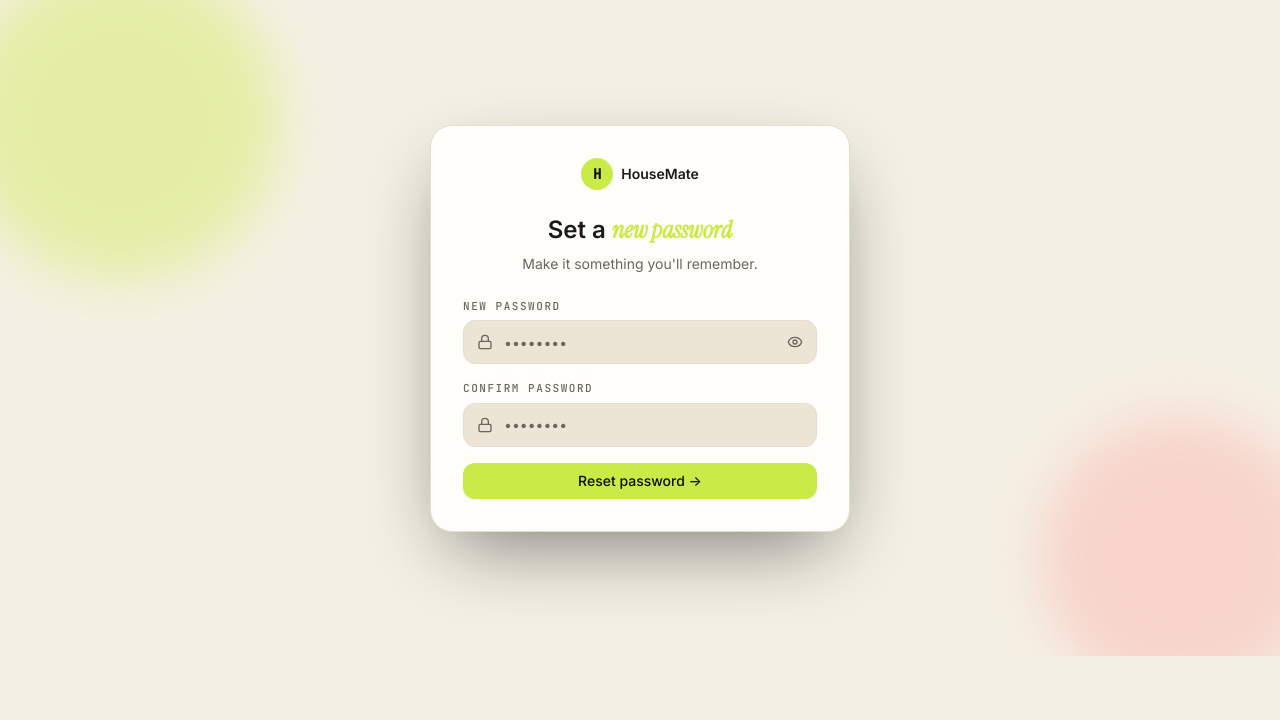
Test case: <ResetPasswordPage /> › shows error from server on bad token
In the 1st password field with placeholder "••••••••": (640,342) [463,320,817,364], type "BrandNewPass1!"
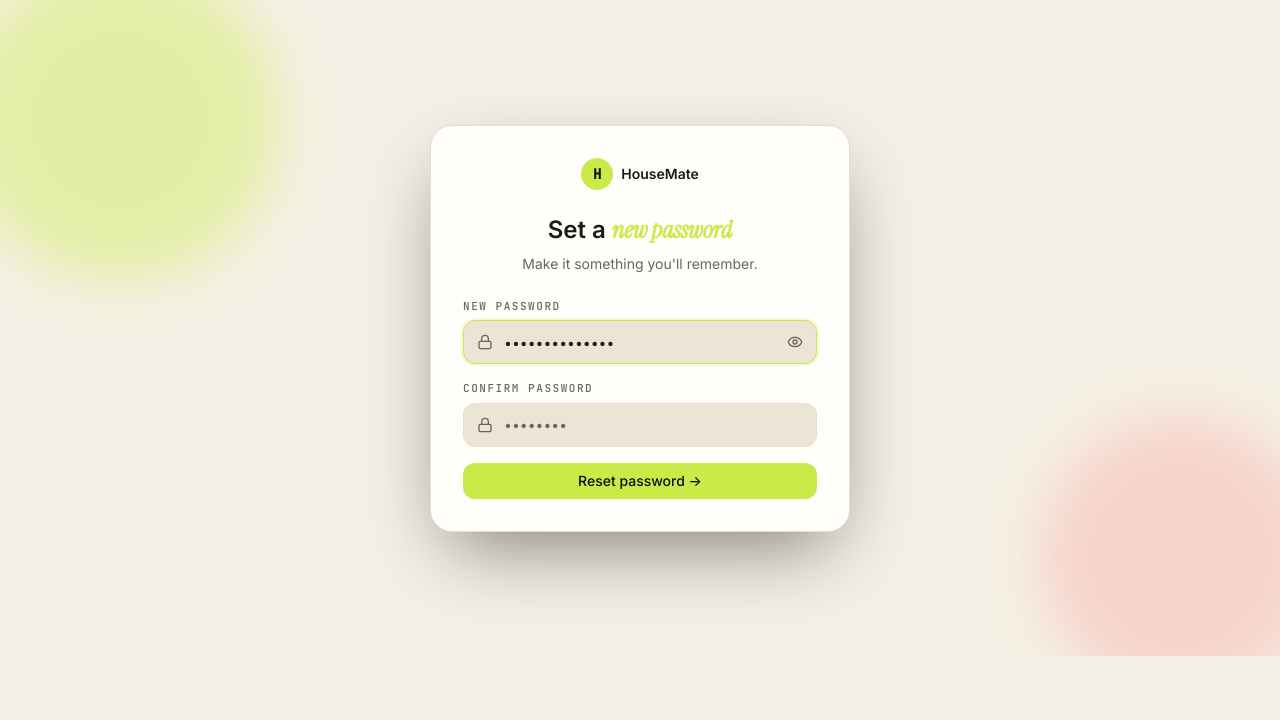
In the password field with placeholder "••••••••": (640,424) [463,402,817,446], type "BrandNewPass1!"
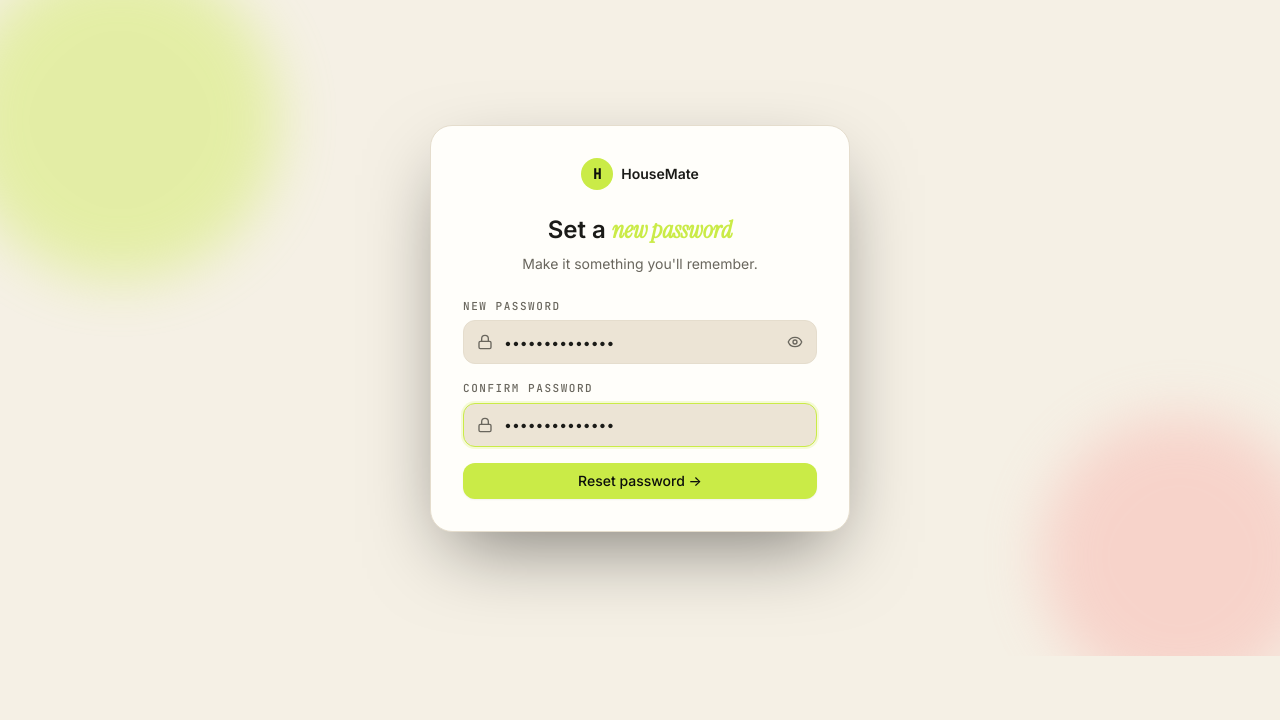
Click the button "Reset password →": (640,480) [463,462,817,498]
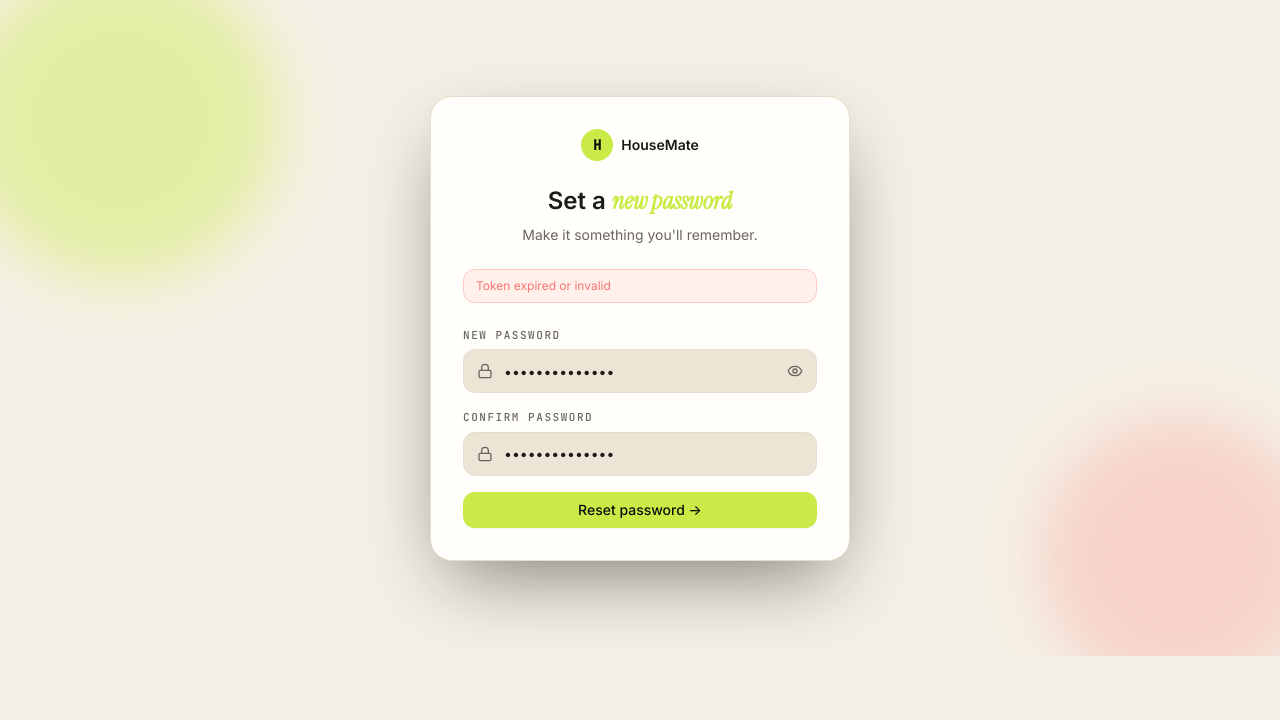
Expected: the text "Token expired or invalid" is shown, [463,268,817,302]
